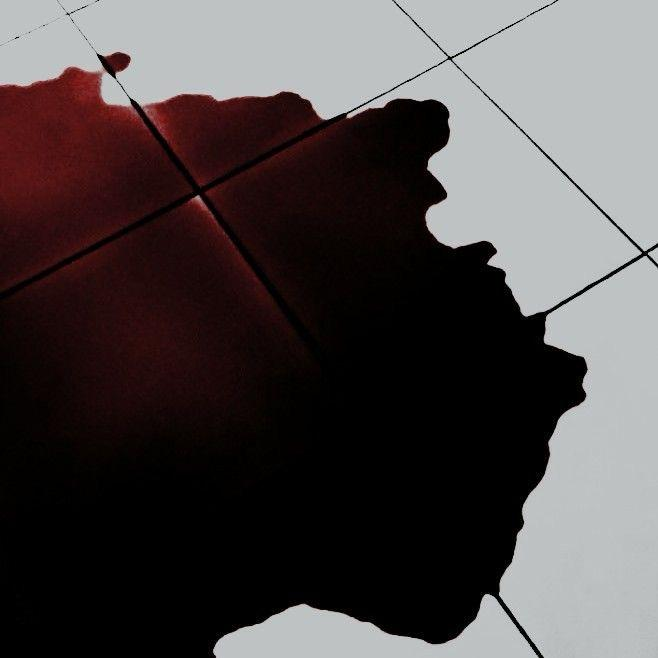blood_1.png: (6, 30, 588, 658)
